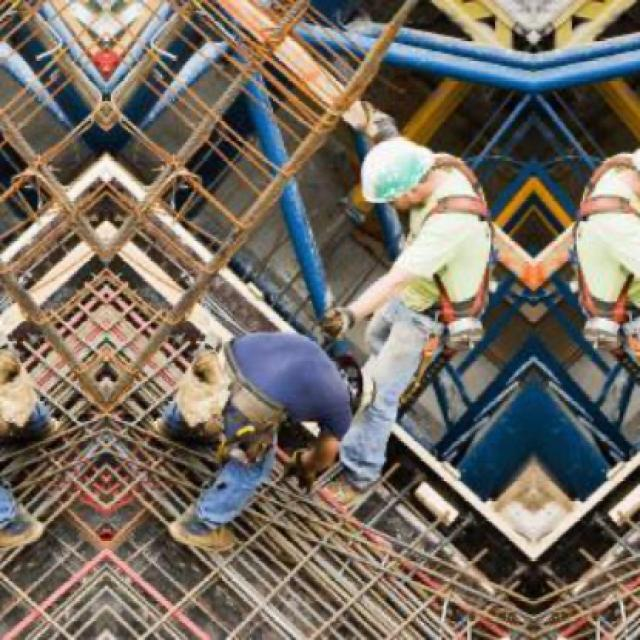helmet: (344, 132, 444, 222), (327, 346, 378, 419)
